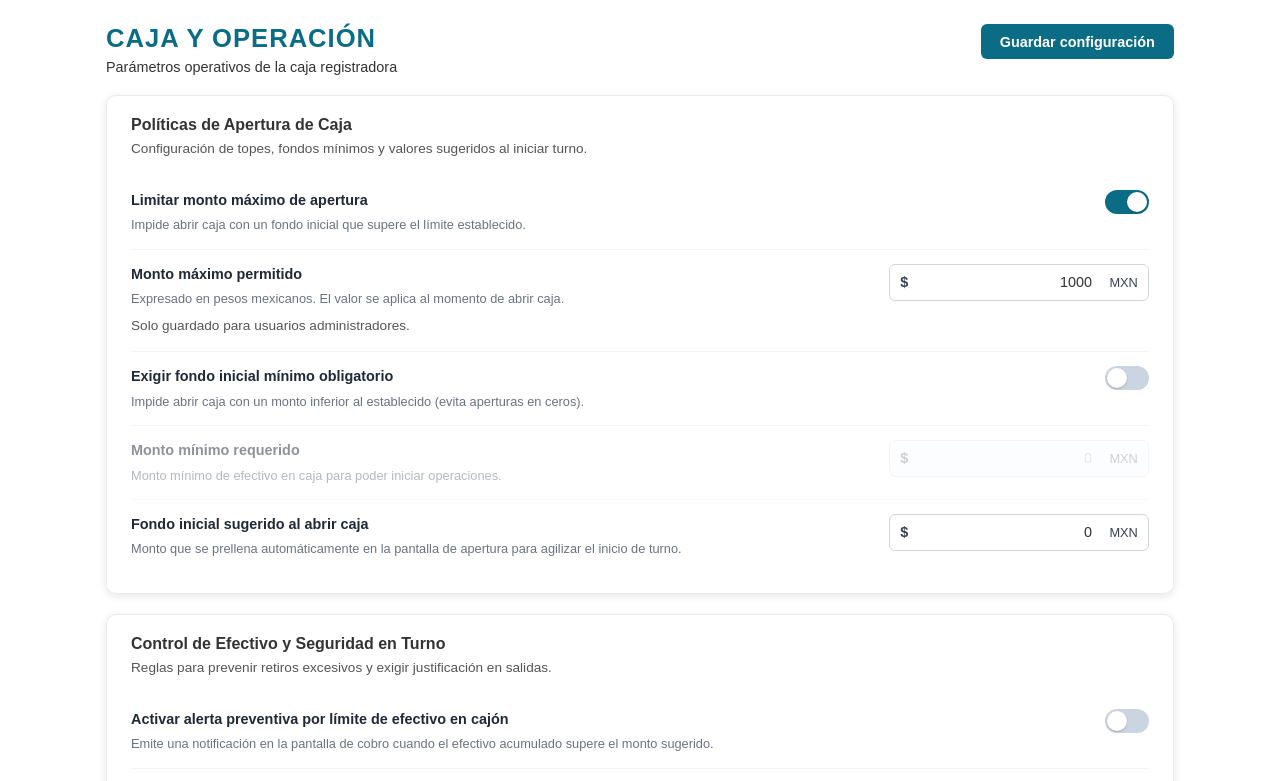
Test: SettingsCash › anuncia el error del servicio con role=alert
Expected: the number field named "Monto máximo" in the row of "Monto máximo permitido" is shown, [889, 264, 1149, 301]
Click the button "Guardar configuración" at (1077, 42), box [980, 24, 1174, 59]
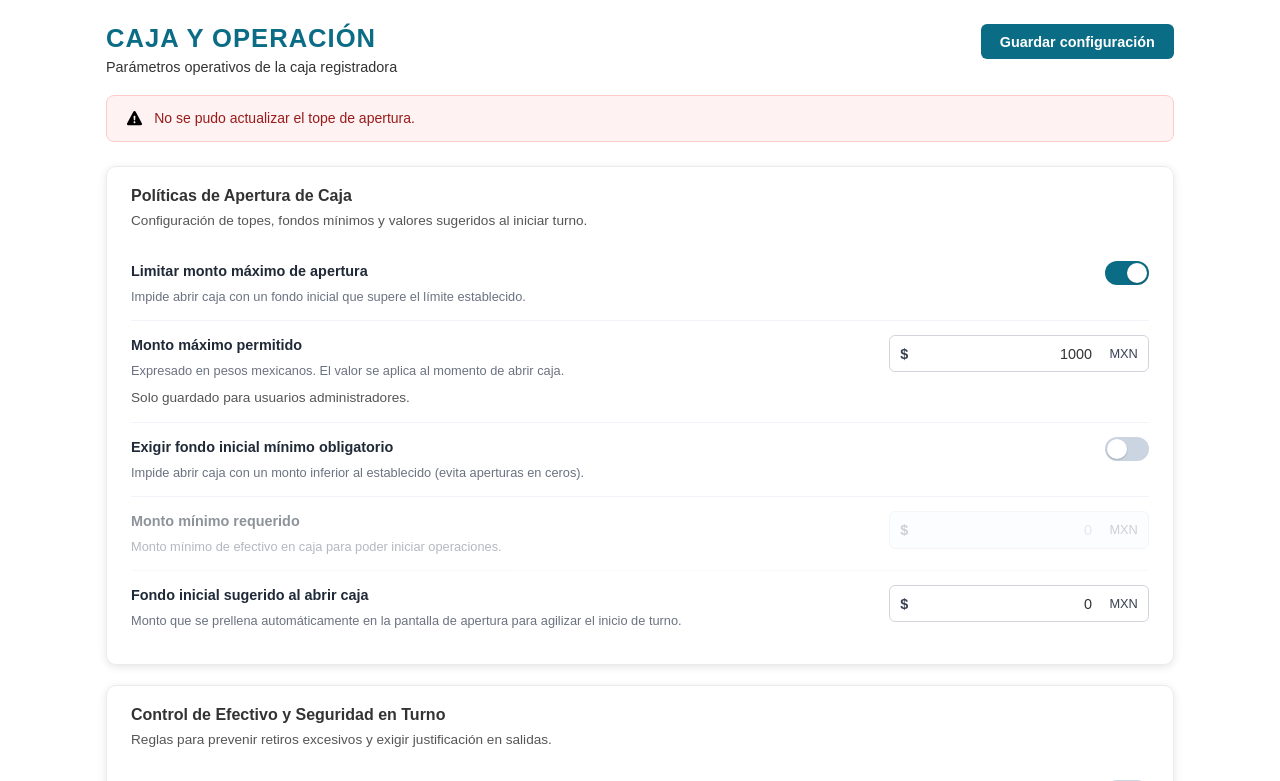
Now the message reads "No se pudo actualizar el tope de apertura.", box [154, 110, 415, 126]
